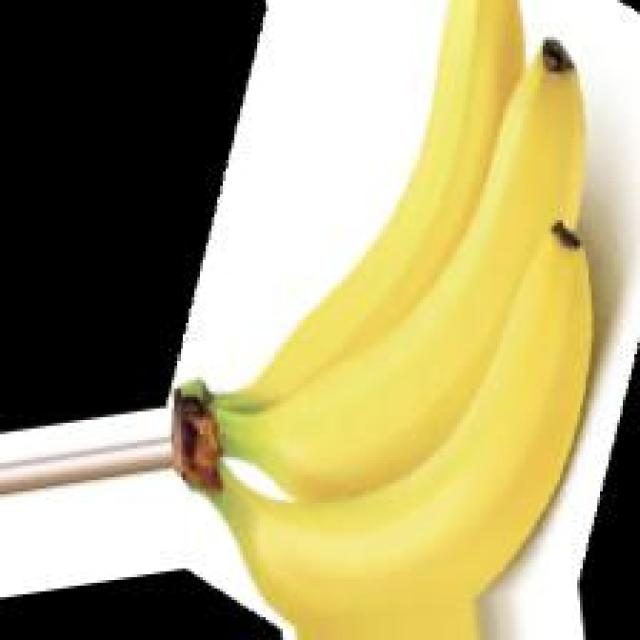banana: (165, 29, 593, 616)
